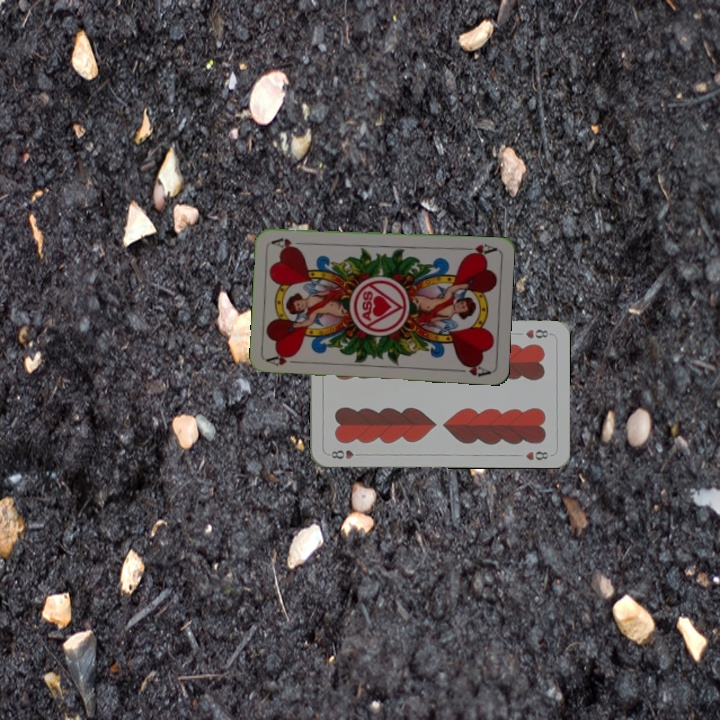H8: (522, 325, 554, 341), (327, 446, 356, 461)
HA: (458, 240, 498, 259), (264, 351, 304, 368)
